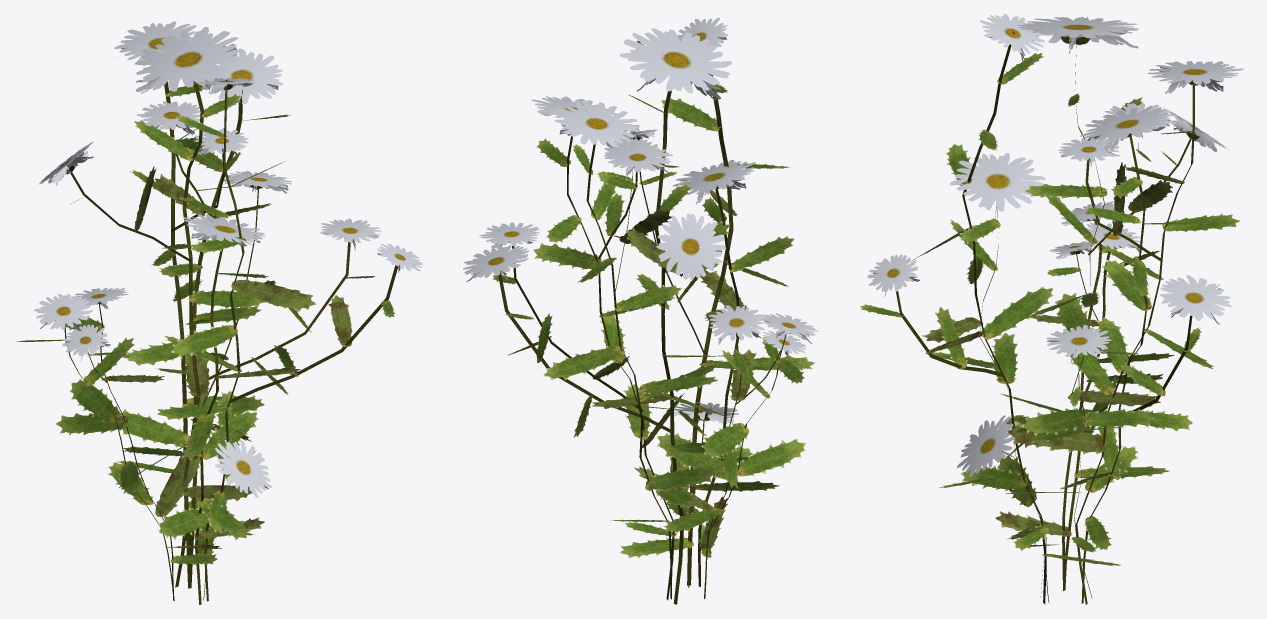
File: daisies.glb
The picture shows the model from 3 angles, left to right: view 1: azimuth 30°, elevation 25°; view 2: azimuth 150°, elevation 25°; view 3: azimuth 270°, elevation 25°; orthographic projection. The views are drawn at different scales.
Parts seen in each view (by area): view 1: Daisy_2_LOD1, Daisy_1_LOD1, Daisy_3_LOD1; view 2: Daisy_2_LOD1, Daisy_1_LOD1, Daisy_3_LOD1; view 3: Daisy_2_LOD1, Daisy_3_LOD1, Daisy_1_LOD1.
Boxes of the visible parts, x1,y1,x2,y2 form: Daisy_2_LOD1: [16, 21, 422, 601]; Daisy_1_LOD1: [39, 27, 300, 604]; Daisy_3_LOD1: [54, 48, 381, 600]; Daisy_2_LOD1: [543, 17, 818, 599]; Daisy_1_LOD1: [463, 28, 815, 604]; Daisy_3_LOD1: [479, 96, 806, 600]; Daisy_2_LOD1: [859, 14, 1243, 604]; Daisy_3_LOD1: [957, 103, 1207, 604]; Daisy_1_LOD1: [922, 17, 1231, 598].
Size of the model in its own units: 0.3918 by 0.5929 by 0.3607.
1 material, 1 textured.
